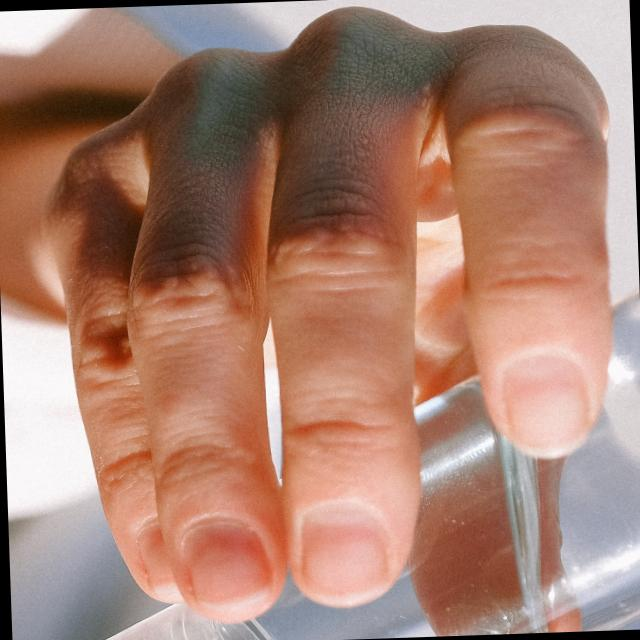Nail: (300, 498, 391, 607), (502, 355, 591, 457), (185, 524, 272, 622), (134, 518, 181, 603)
